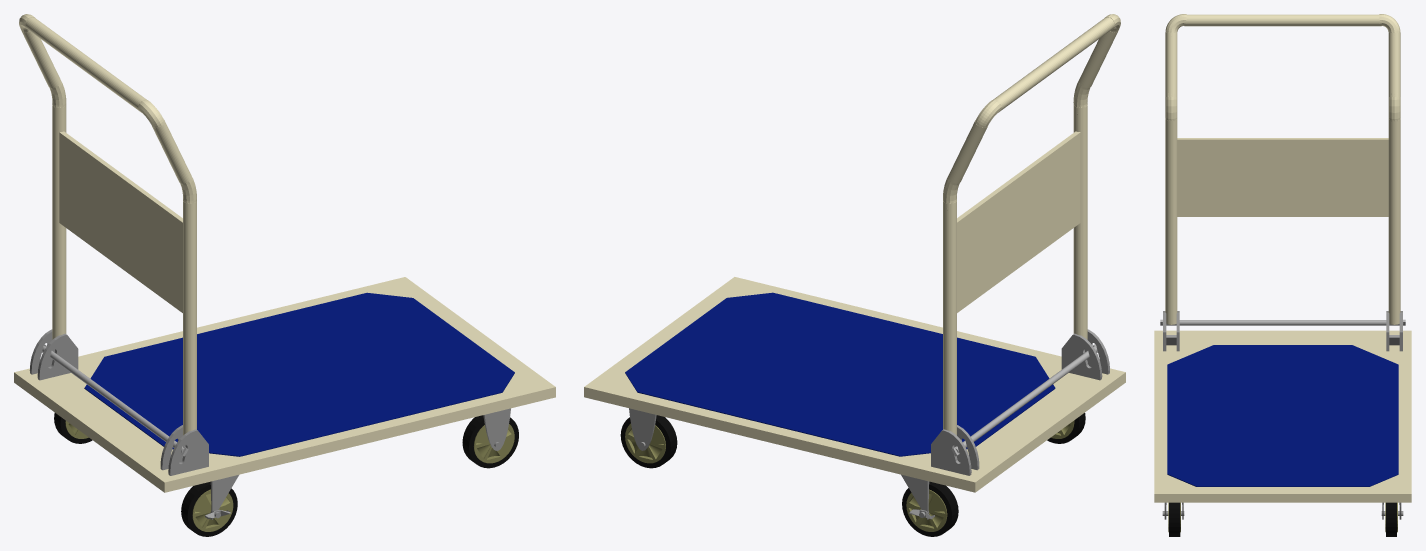
The model's file is flatCartTextured.fbx.
3 views of the same model, side by side, from view 1: azimuth 30°, elevation 25°; view 2: azimuth 150°, elevation 25°; view 3: azimuth 270°, elevation 25° (orthographic). The views are drawn at different scales.
Parts seen in each view (by area): view 1: Cube.025, Cube, Cube.020, Cylinder.023, Cylinder.022, Cylinder.025, Cylinder, Cylinder.001, Cylinder.020, Cylinder.004, Cylinder.005, Cylinder.002 (+4 smaller); view 2: Cube.025, Cube, Cube.020, Cylinder.022, Cylinder.023, Cylinder.025, Cylinder.001, Cylinder, Cylinder.020, Cylinder.008, Cylinder.009, Cylinder.006 (+4 smaller); view 3: Cube.025, Cube.020, Cube, Cylinder.022, Cylinder.023, Cylinder.025, Cylinder.020, Cylinder.021, Cylinder.024, Cylinder.002, Cylinder.006, Cylinder (+3 smaller).
Part boxes in pixels (bbox=[...]): Cube.025: bbox=[84, 292, 514, 456]; Cube: bbox=[14, 277, 555, 492]; Cube.020: bbox=[59, 131, 182, 312]; Cylinder.023: bbox=[183, 201, 196, 435]; Cylinder.022: bbox=[52, 105, 66, 339]; Cylinder.025: bbox=[25, 17, 146, 111]; Cylinder: bbox=[160, 425, 208, 475]; Cylinder.001: bbox=[29, 329, 78, 380]; Cylinder.020: bbox=[42, 346, 184, 453]; Cylinder.004: bbox=[181, 481, 237, 536]; Cylinder.005: bbox=[192, 489, 233, 531]; Cylinder.002: bbox=[462, 415, 518, 468]; Cube.025: bbox=[625, 292, 1055, 456]; Cube: bbox=[584, 277, 1125, 492]; Cube.020: bbox=[957, 131, 1080, 312]; Cylinder.022: bbox=[943, 201, 956, 435]; Cylinder.023: bbox=[1073, 105, 1087, 339]; Cylinder.025: bbox=[993, 17, 1114, 112]; Cylinder.001: bbox=[931, 425, 979, 475]; Cylinder: bbox=[1061, 329, 1109, 380]; Cylinder.020: bbox=[955, 345, 1097, 452]; Cylinder.008: bbox=[902, 481, 958, 536]; Cylinder.009: bbox=[906, 489, 947, 531]; Cylinder.006: bbox=[620, 415, 677, 468]; Cube.025: bbox=[1167, 345, 1398, 486]; Cube.020: bbox=[1177, 138, 1388, 216]; Cube: bbox=[1154, 330, 1411, 502]; Cylinder.022: bbox=[1388, 118, 1400, 324]; Cylinder.023: bbox=[1165, 118, 1177, 324]; Cylinder.025: bbox=[1184, 14, 1381, 26]; Cylinder.020: bbox=[1162, 320, 1403, 325]; Cylinder.021: bbox=[1388, 32, 1400, 96]; Cylinder.024: bbox=[1165, 32, 1177, 96]; Cylinder.002: bbox=[1169, 502, 1180, 536]; Cylinder.006: bbox=[1386, 502, 1396, 536]; Cylinder: bbox=[1163, 311, 1179, 351].
Size of the model in its own units: 612 by 650 by 400.
